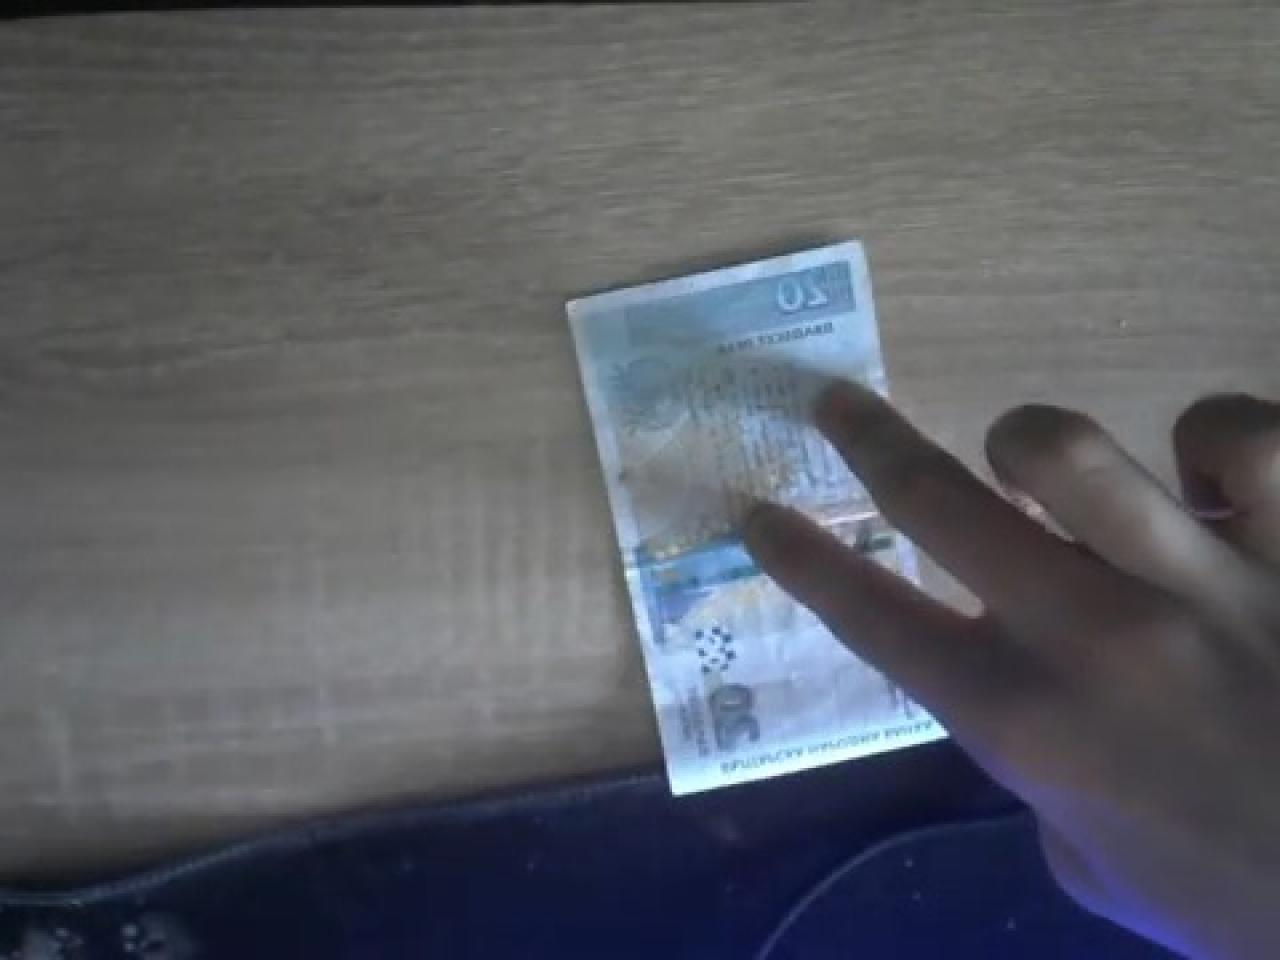20leva: (565, 237, 959, 795)
